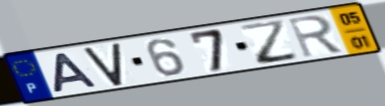6: (144, 37, 188, 78)
7: (187, 27, 226, 73)
A: (51, 51, 101, 94)
R: (285, 13, 346, 60)
V: (81, 41, 125, 88)
Z: (237, 17, 303, 66)
